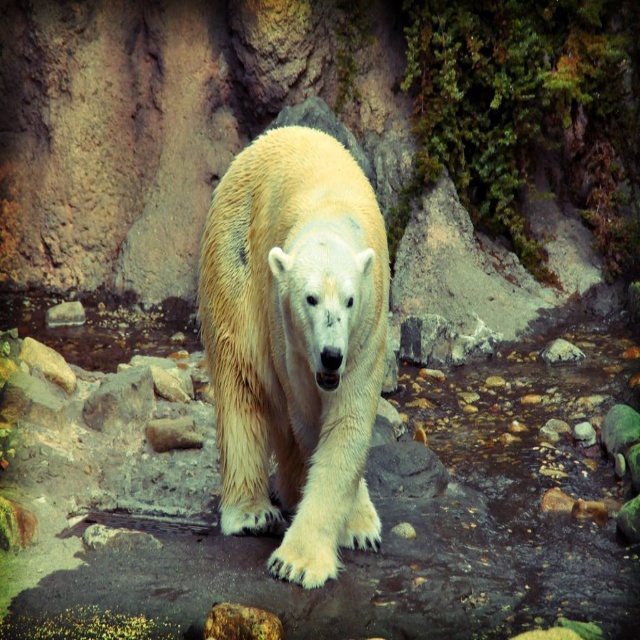Polar bear: (192, 124, 393, 590)
